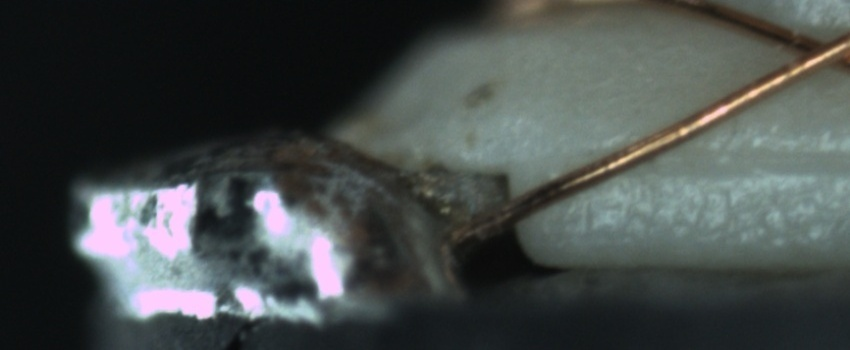CL: (771, 20, 849, 81)
DL: (615, 121, 846, 195)
